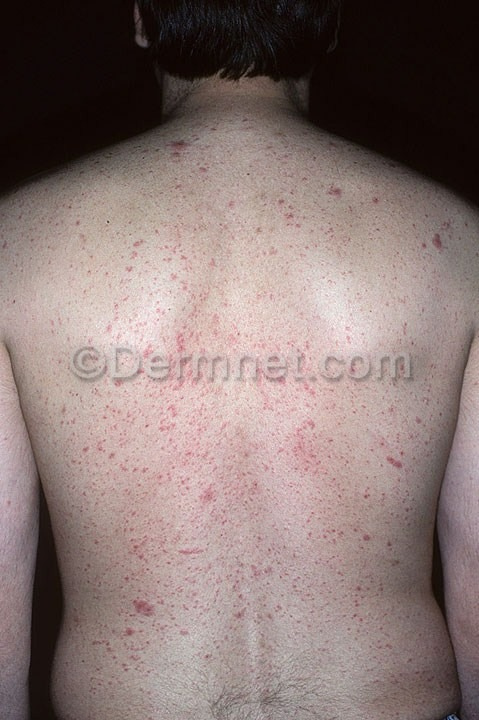Psoriasis: (64, 386, 424, 671), (102, 158, 451, 350)
